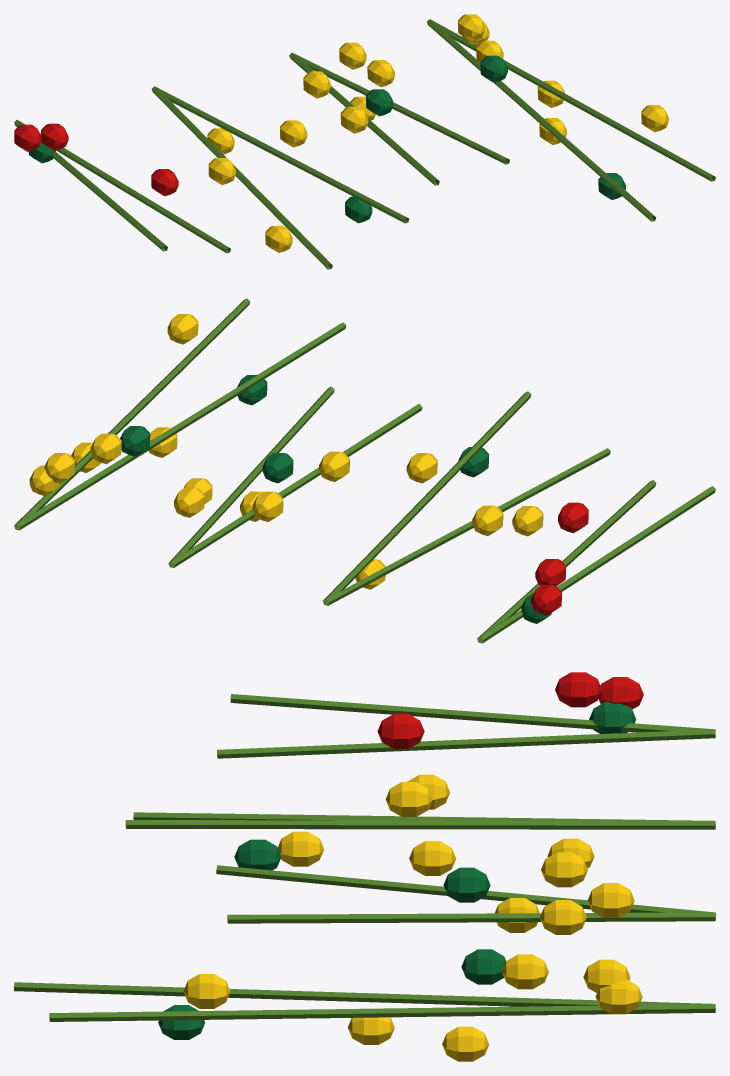
The model's file is r21c4_stems.obj.
3 renders of one model, top to bottom at view 1: azimuth 30°, elevation 25°; view 2: azimuth 150°, elevation 25°; view 3: azimuth 270°, elevation 25°, orthographic. The views are drawn at different scales.
Visible parts, largest first — view 1: r21c4_stems; view 2: r21c4_stems; view 3: r21c4_stems.
Boxes of the visible parts, box(x1,y1,x2,y2) form: r21c4_stems: box(14, 14, 715, 269); r21c4_stems: box(14, 298, 715, 643); r21c4_stems: box(14, 672, 715, 1061).
Size of the model in its own units: 1.66 by 0.2749 by 1.49.
